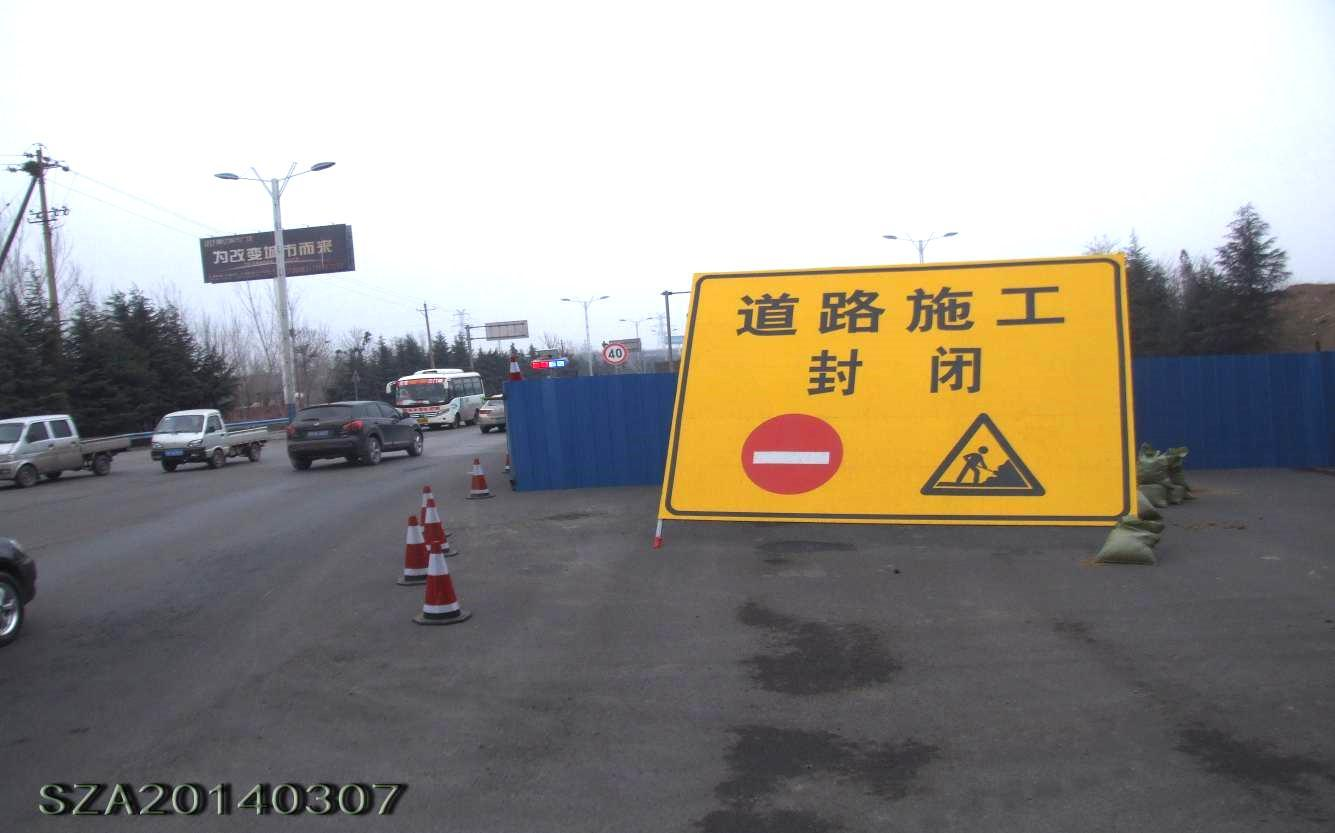sign: (684, 274, 1145, 527)
